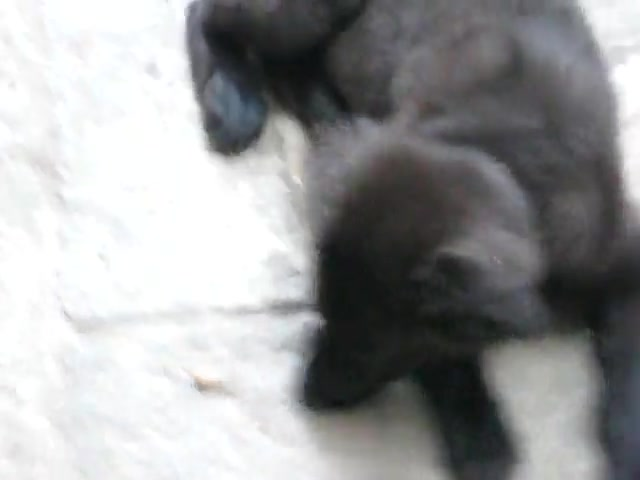dog: (186, 1, 640, 479)
